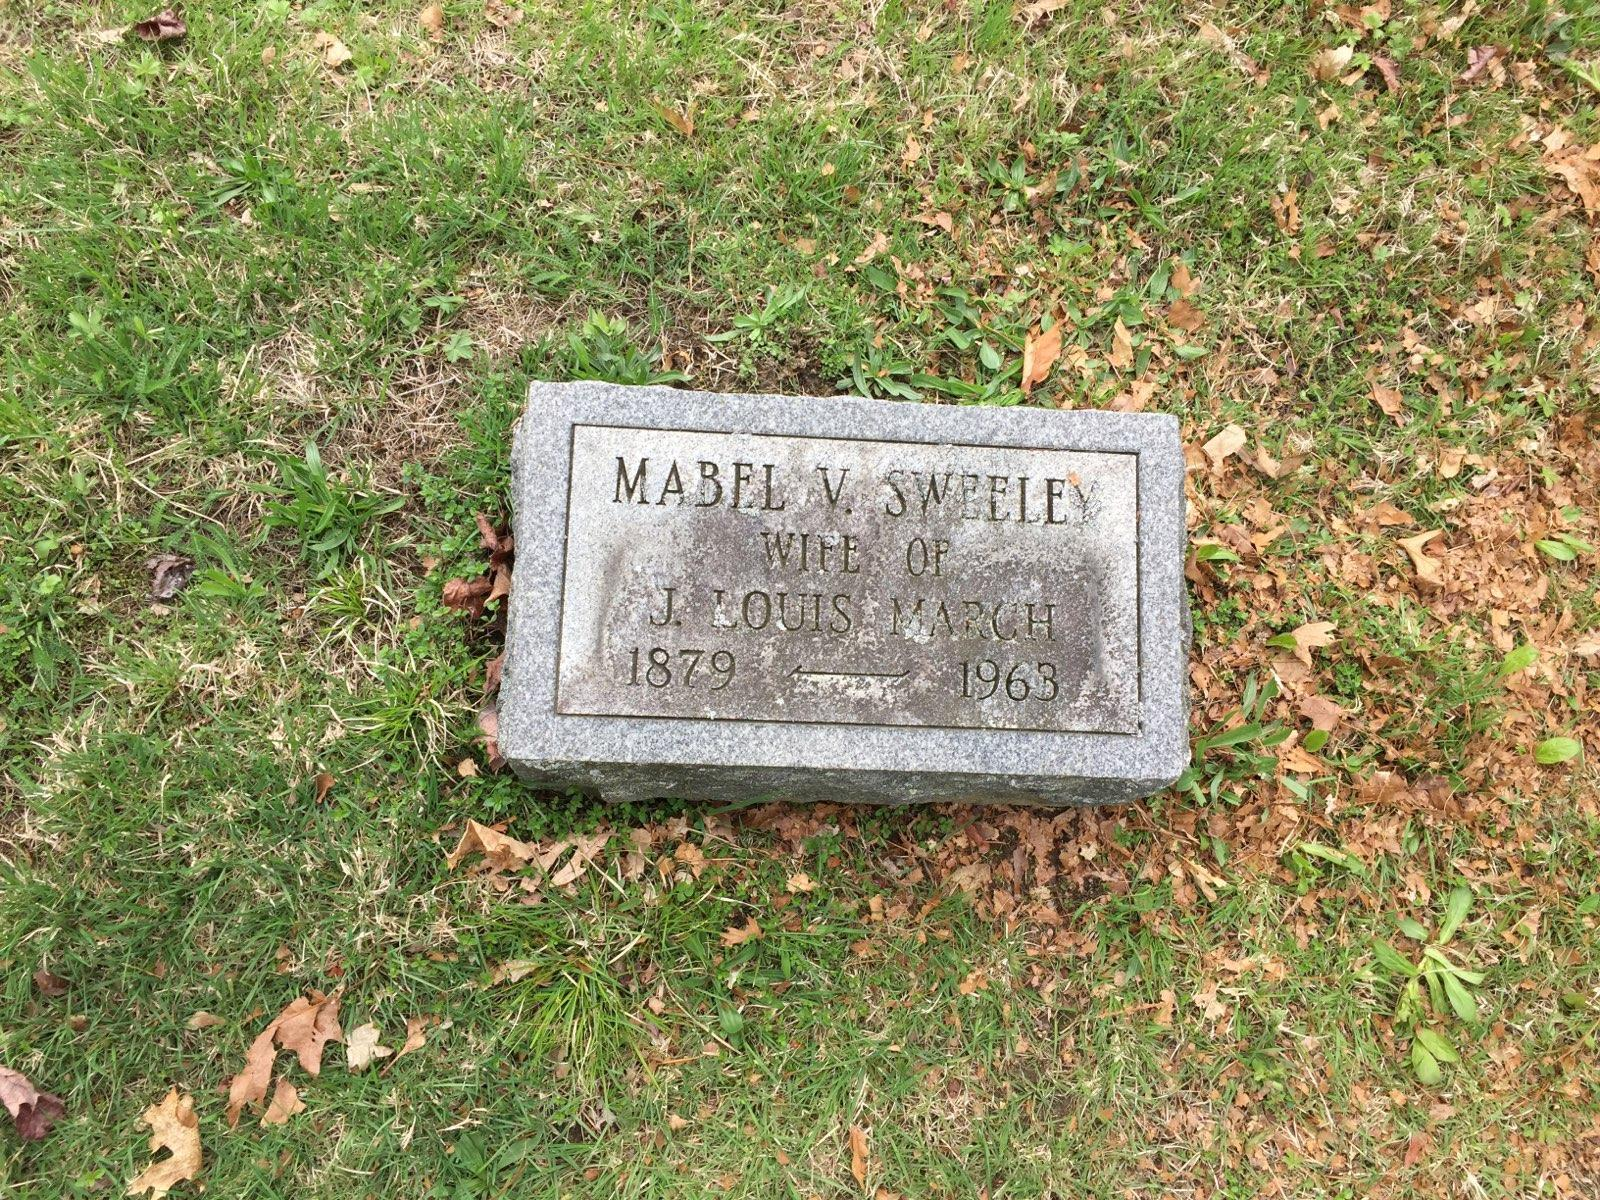flat: (503, 372, 1191, 788)
